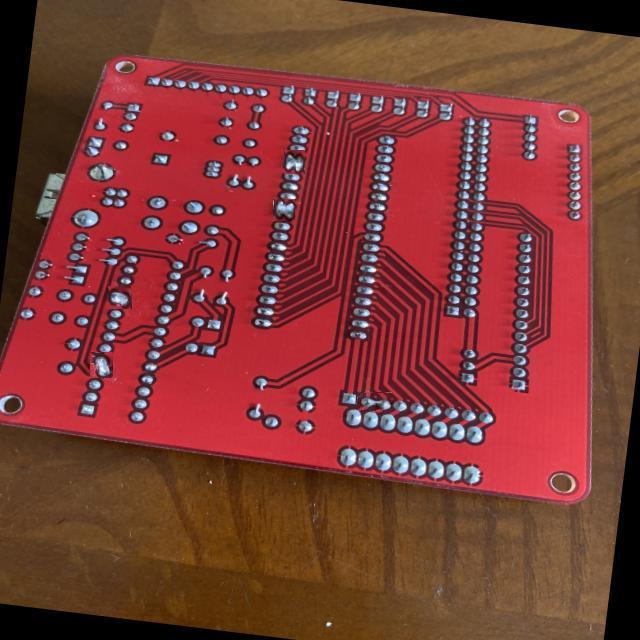damged: (356, 392, 392, 410), (90, 352, 113, 378), (108, 286, 132, 309), (283, 150, 306, 173), (273, 199, 296, 221)
